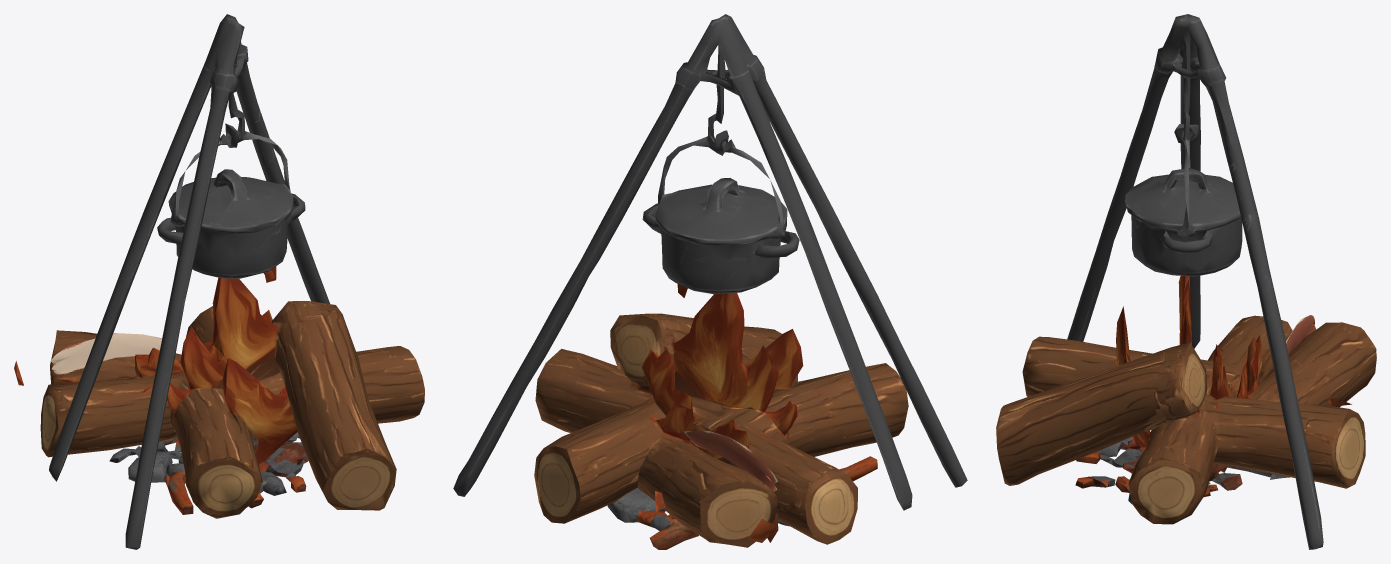
The model's file is campfire.glb.
3 views of the same model, side by side, from view 1: azimuth 30°, elevation 25°; view 2: azimuth 150°, elevation 25°; view 3: azimuth 270°, elevation 25° (orthographic). The views are drawn at different scales.
Visible parts, largest first — view 1: world; view 2: world; view 3: world.
Part boxes in pixels (x1,y1,x2,y2): world: (14,14,424,549); world: (453,14,967,549); world: (996,14,1376,549).
Bounding box in the file's own units: 0.8585 × 0.9988 × 0.7711.
1 material, 1 textured.
